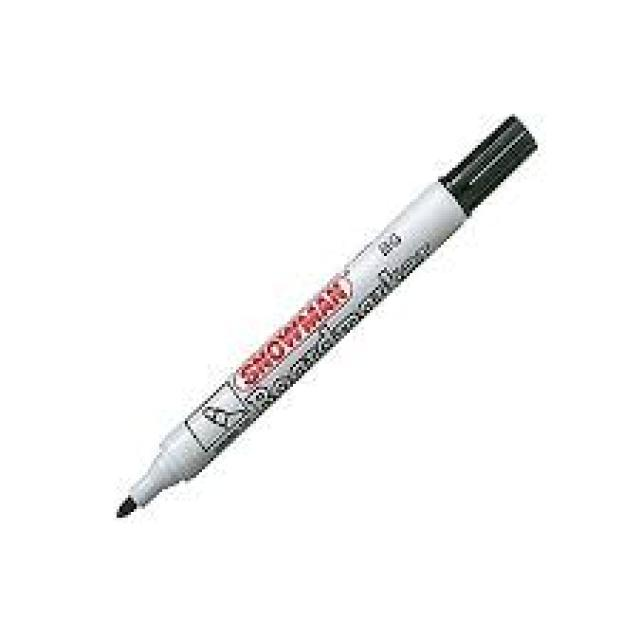marker: (116, 114, 541, 522)
